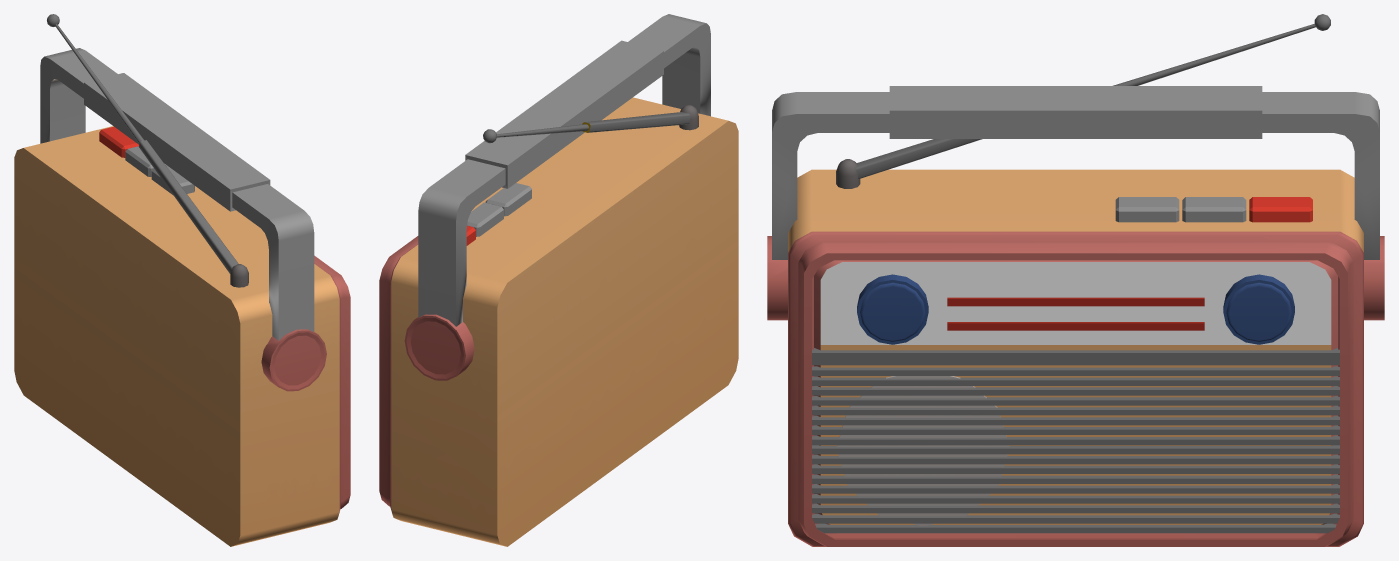
The model's file is Radio.fbx.
3 renders of one model, left to right at view 1: azimuth 30°, elevation 25°; view 2: azimuth 150°, elevation 25°; view 3: azimuth 270°, elevation 25°, orthographic. The views are drawn at different scales.
Parts seen in each view (by area): view 1: Cube_001_003; view 2: Cube_001_003; view 3: Cube_001_003.
Boxes of the visible parts, box(x1,y1,x2,y2) form: Cube_001_003: box(14, 14, 350, 546); Cube_001_003: box(379, 14, 738, 546); Cube_001_003: box(767, 14, 1384, 546).
Bounding box in the file's own units: 570 × 1690 × 1952.
